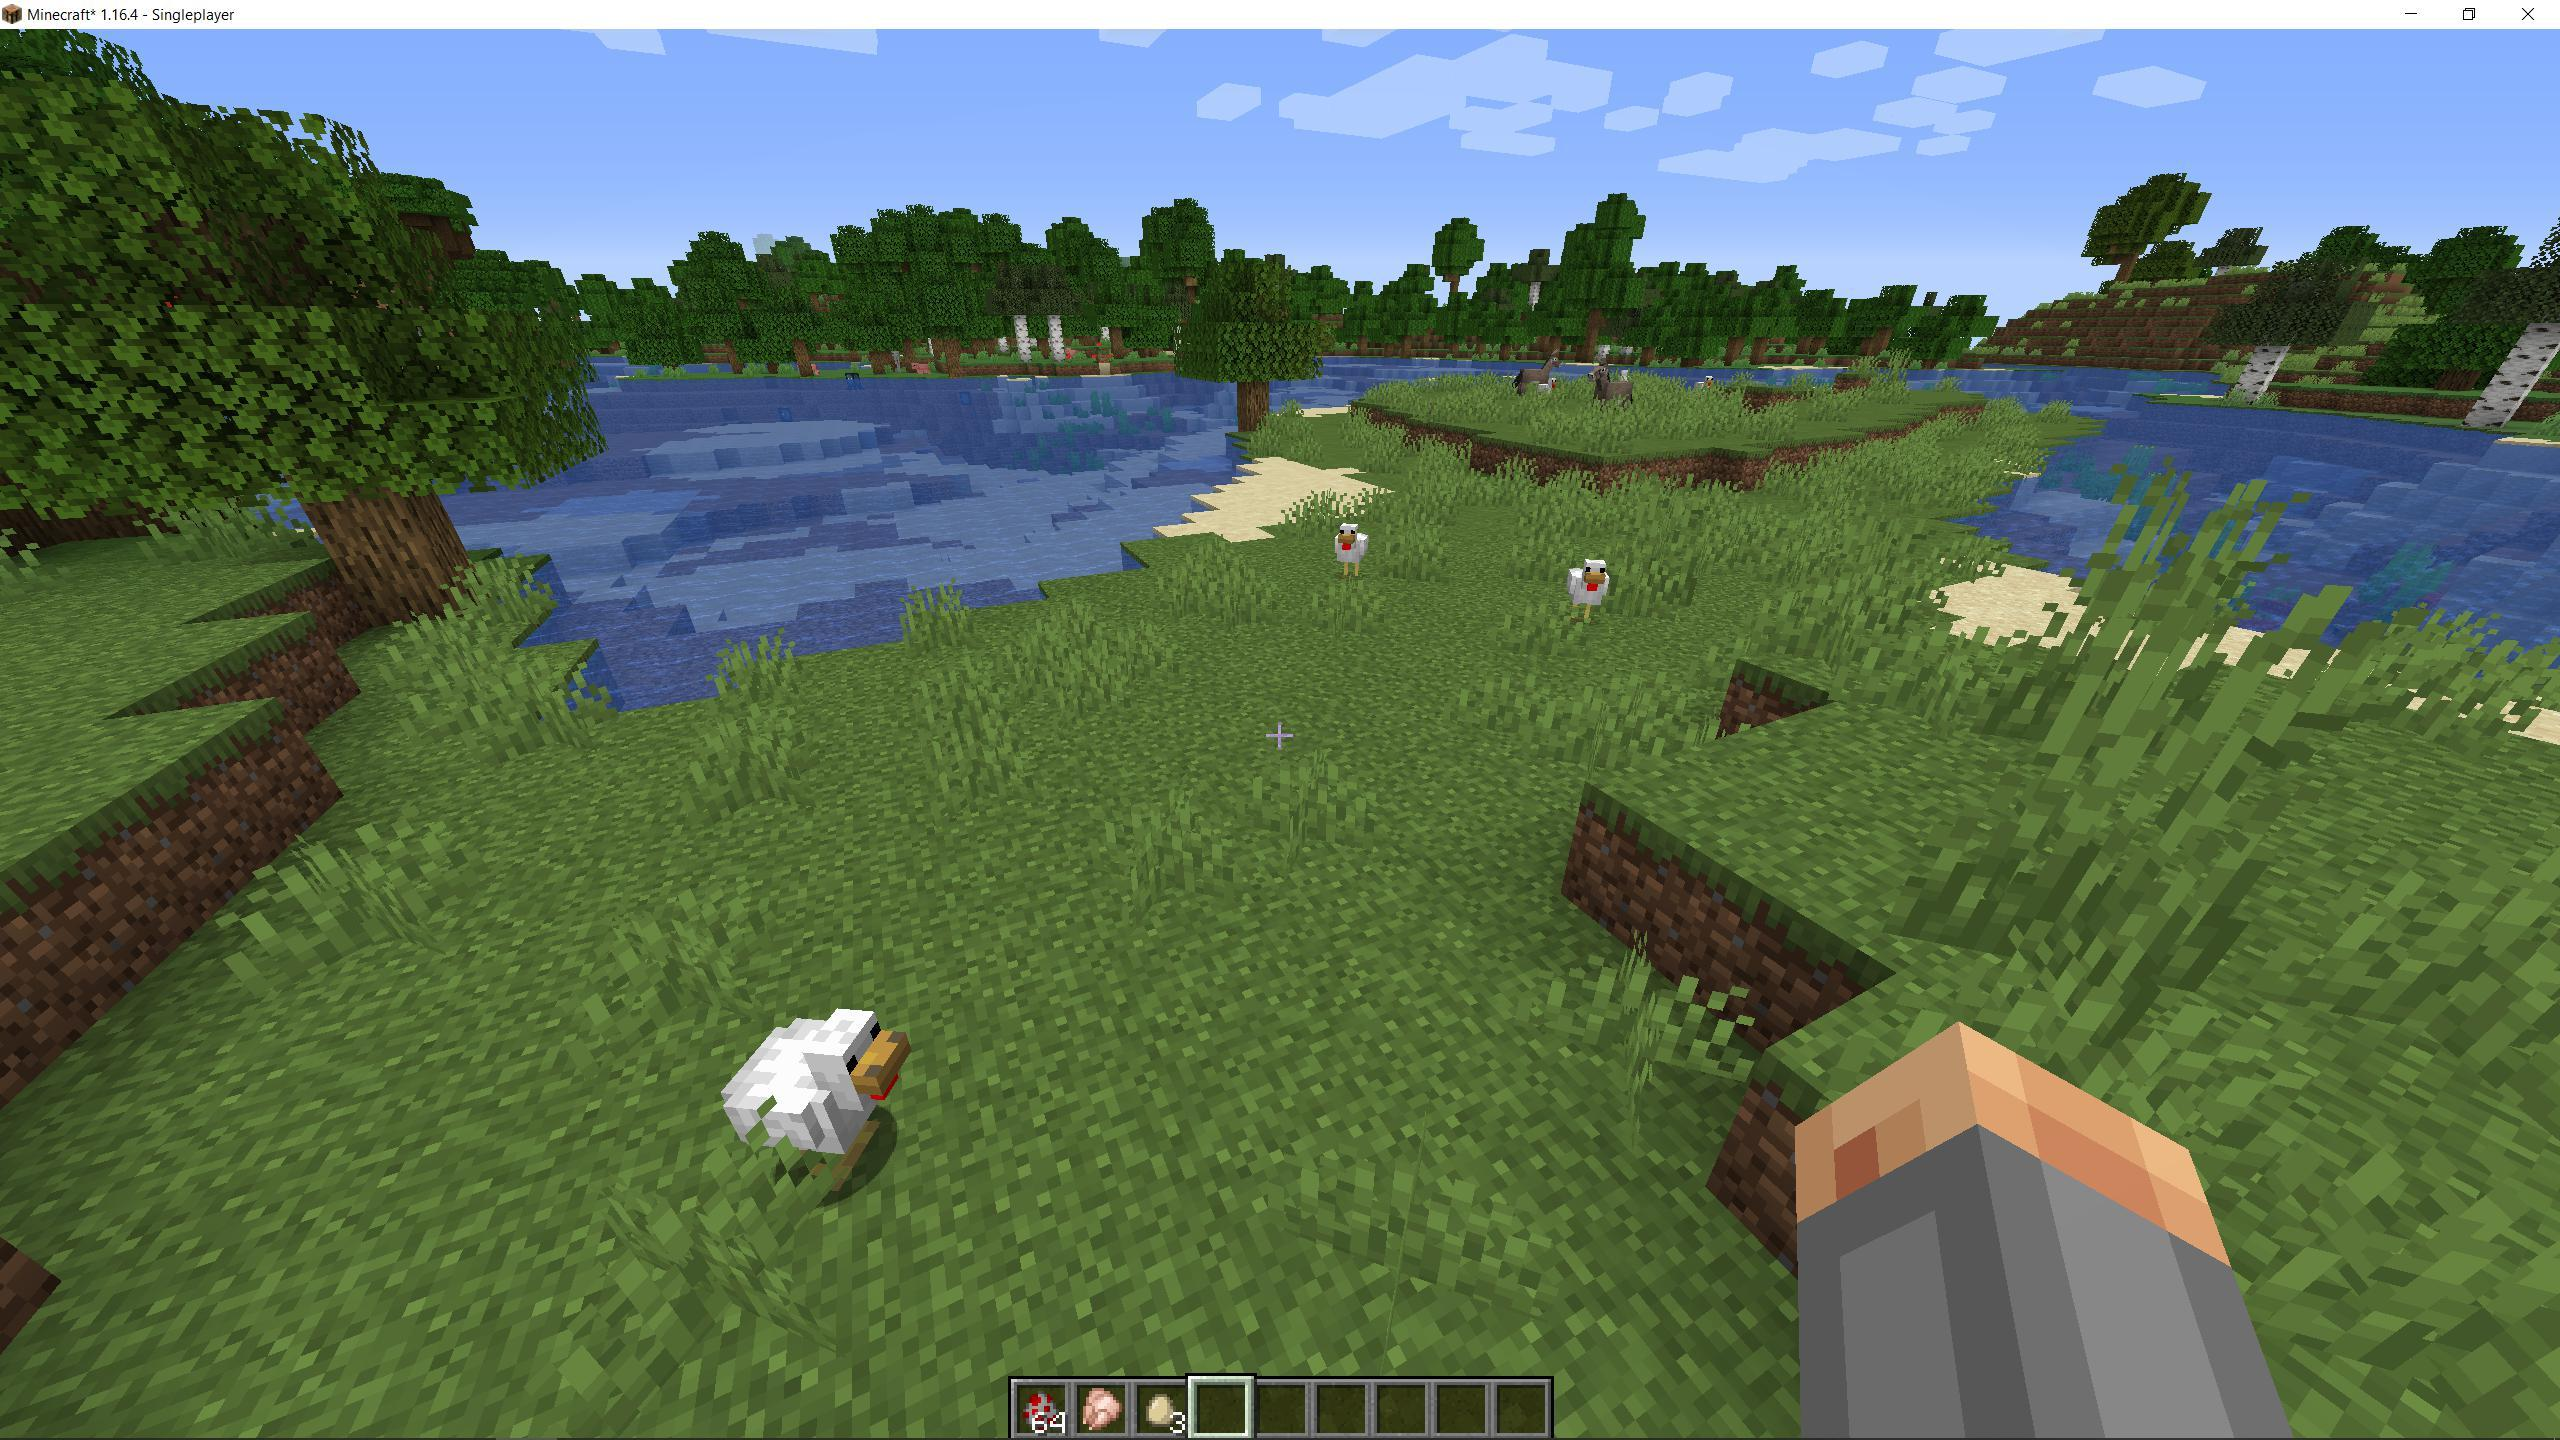chicken: (723, 1006, 918, 1211), (1567, 550, 1618, 626), (1329, 520, 1377, 580)
